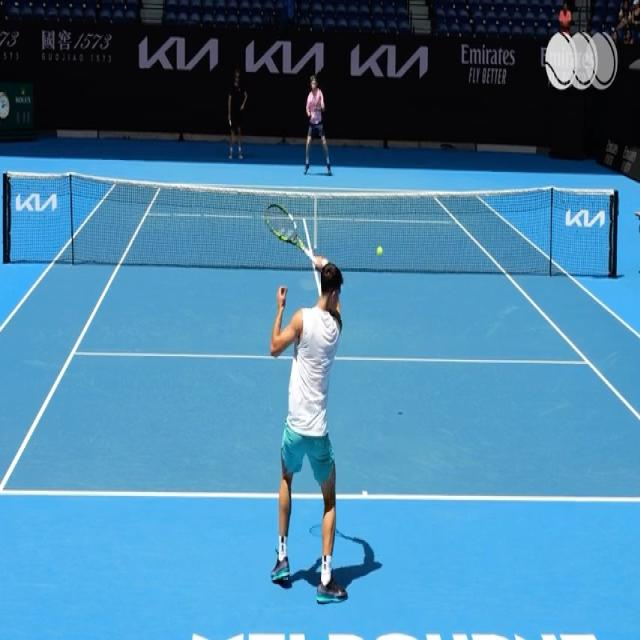forehand-finish: (254, 200, 363, 607)
